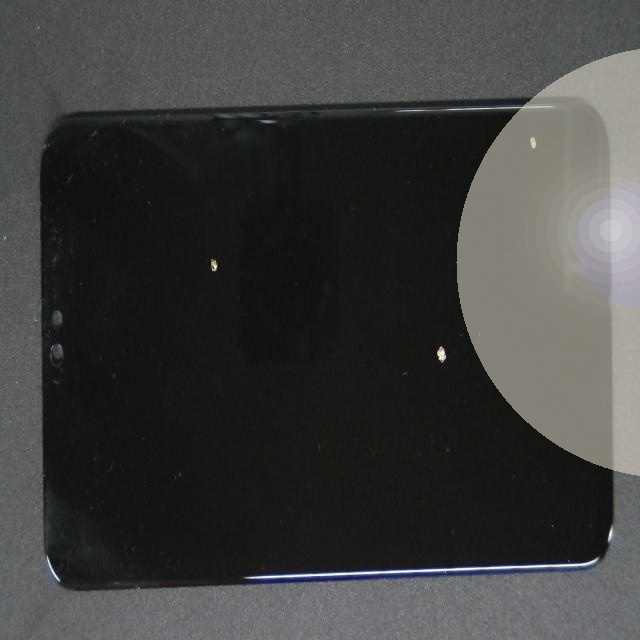stain: (221, 133, 640, 491), (261, 46, 640, 206), (111, 109, 309, 369)
